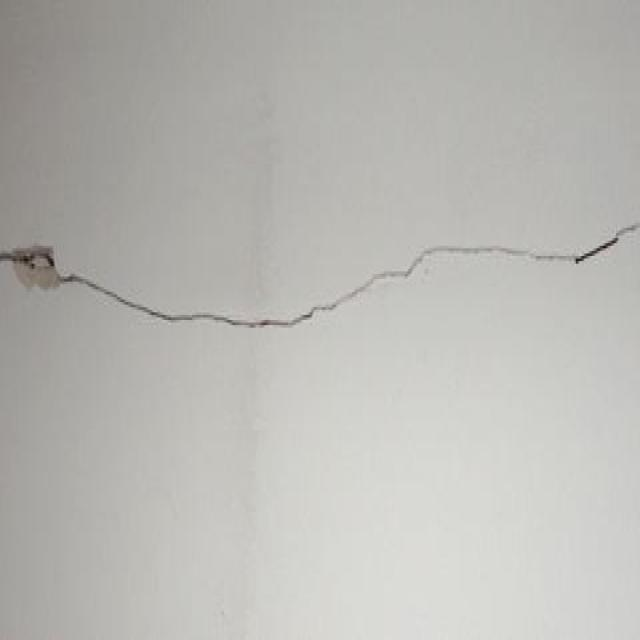crack: (0, 225, 631, 330)
